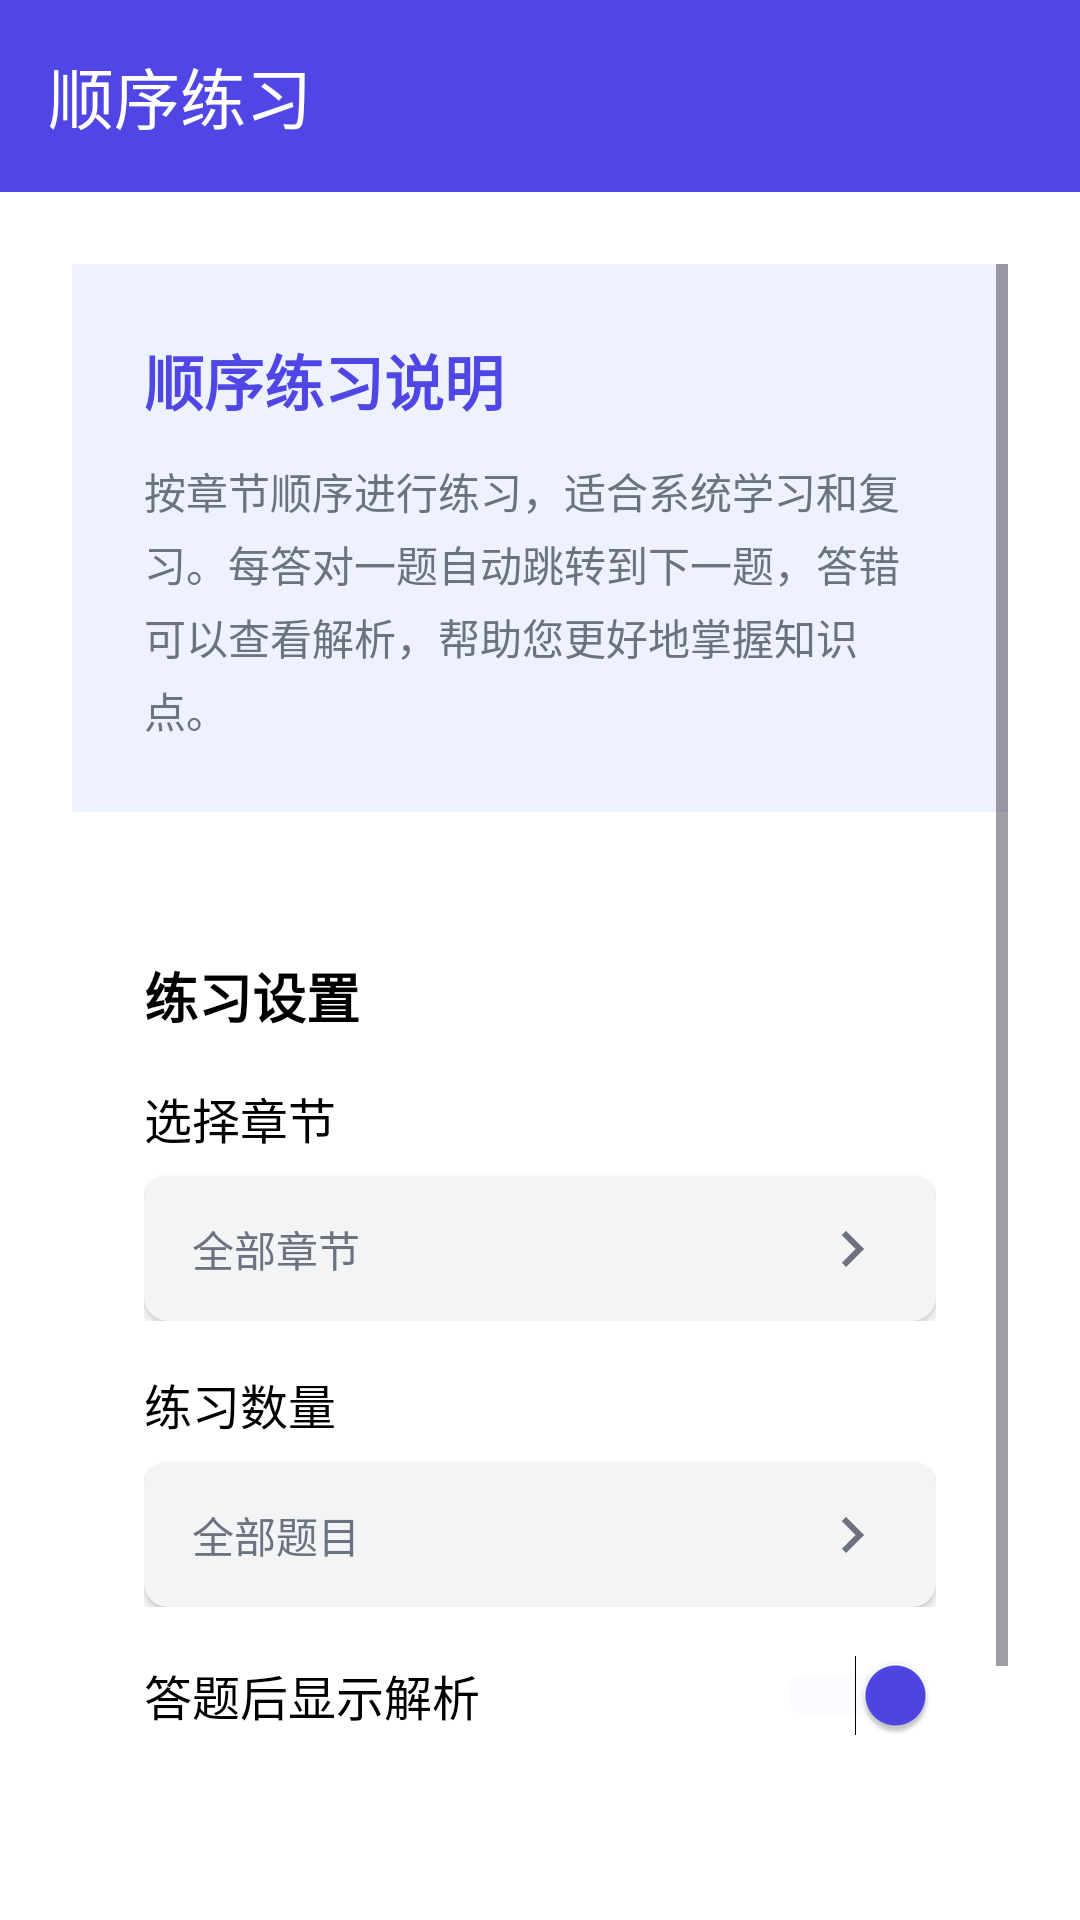

Icons on this 1080 × 1920 Android screen, each with its box as (x1, y1, x2, y2):
chevron right: (842, 1231, 864, 1267), (842, 1517, 864, 1553)
